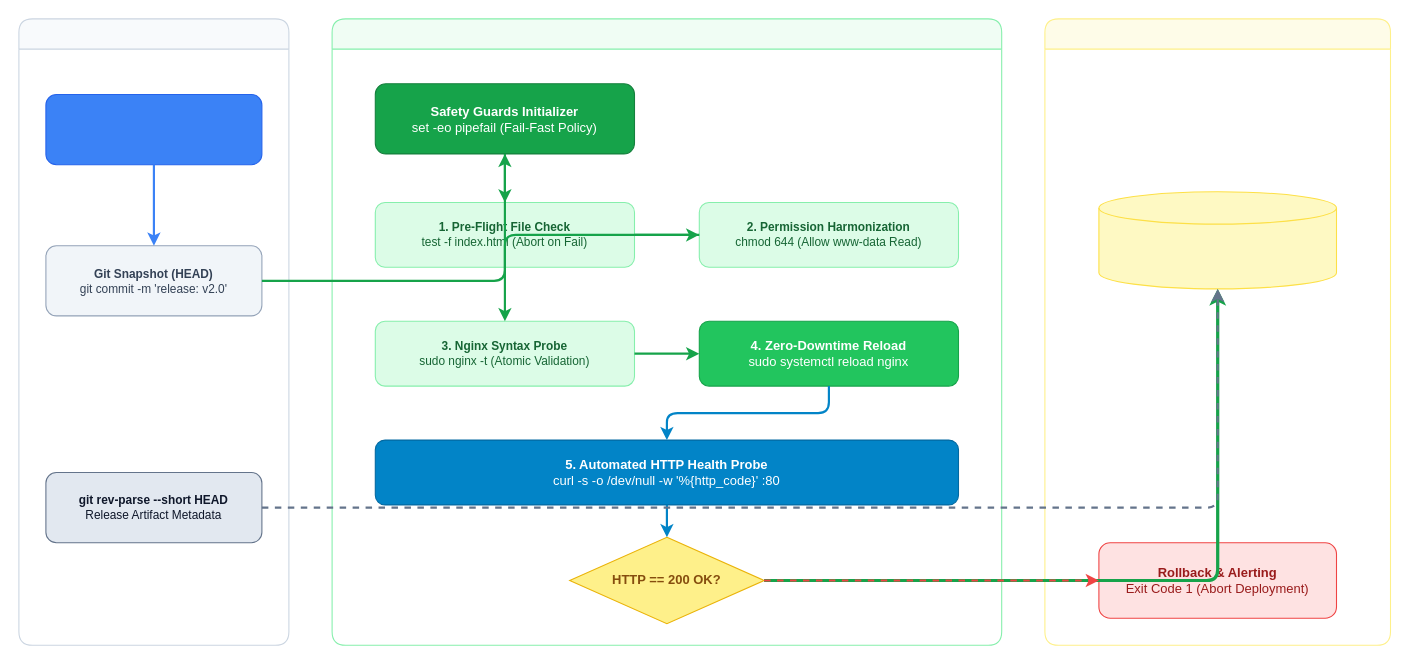
Some shapes in this 1409 by 664 pixel diagram are drawn without their labels. Here are the shapes that lost their labels. From the top down, the box of each, then its label:
(45, 93, 262, 165): Developer Workspace Ubuntu WSL2 CLI
(1098, 191, 1336, 289): deployment.log Audit Trail Timestamp & SHA
(18, 18, 289, 645): Version Control & Release Source
(331, 18, 1002, 645): Defensive Shell Scripting Engine (deploy.sh)
(1044, 18, 1390, 645): Runtime Observability Tier
